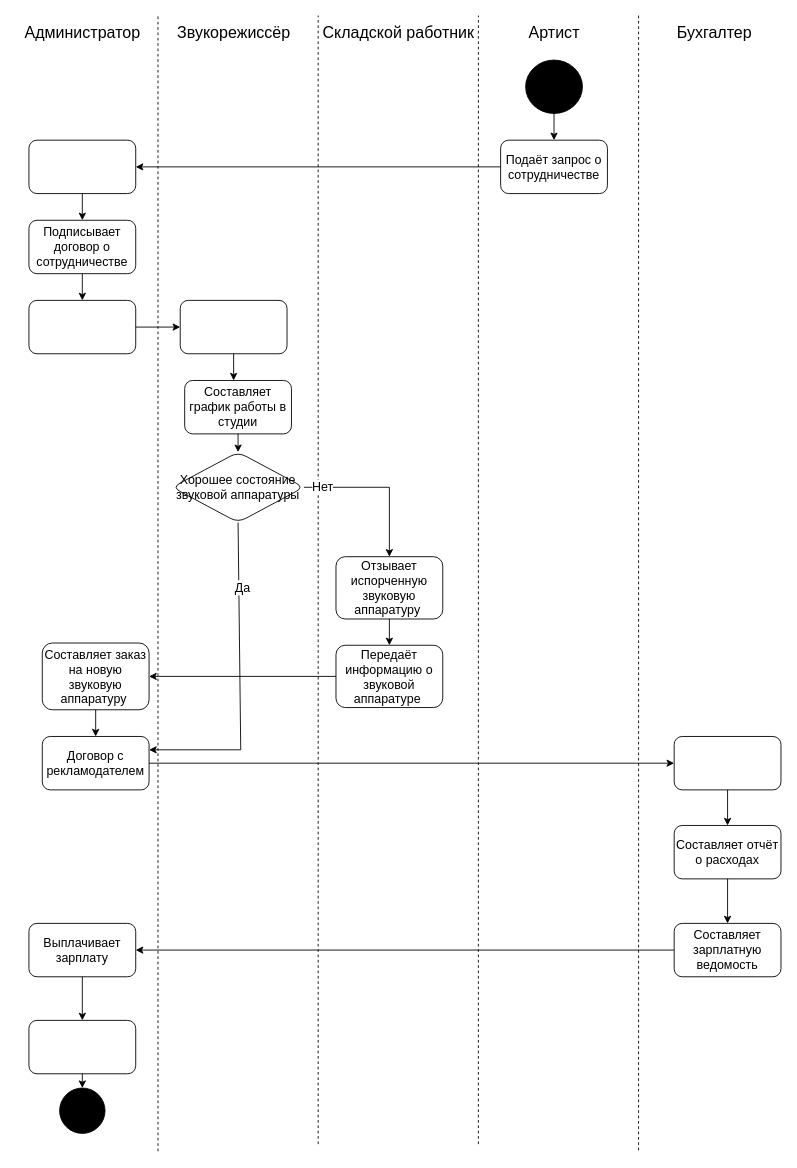
This 797x1168 diagram has some shape labels left out. Here are the shapes that lost their labels. From the top down, the centre of each, then its label:
(x=82, y=166): Получает запрос на сотрудничество
(x=82, y=326): Получает треки от исполнителя
(x=233, y=326): Прослушивает треки исполнителя
(x=727, y=763): Составляет отчёты о прибыли
(x=82, y=1046): Реализует сотрудничество
